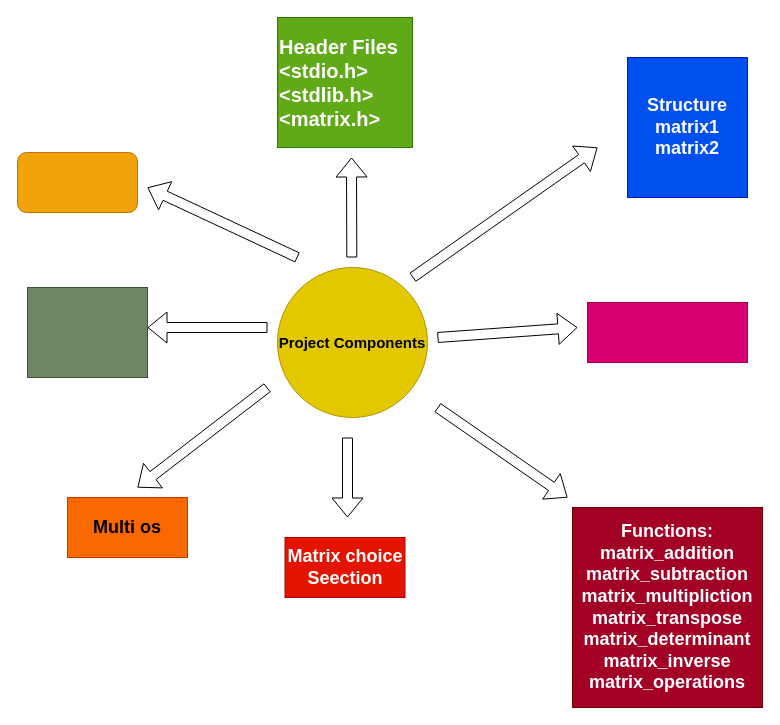
This 780x725 diagram has some shape labels left out. The shapes that lost their labels are listed below. From the top down, each one's centre as x and y in pixels, then its label:
At pixel 77 182: "Unity Testing".
At pixel 87 332: "Menu driven code".
At pixel 667 332: "Main choice selection".
